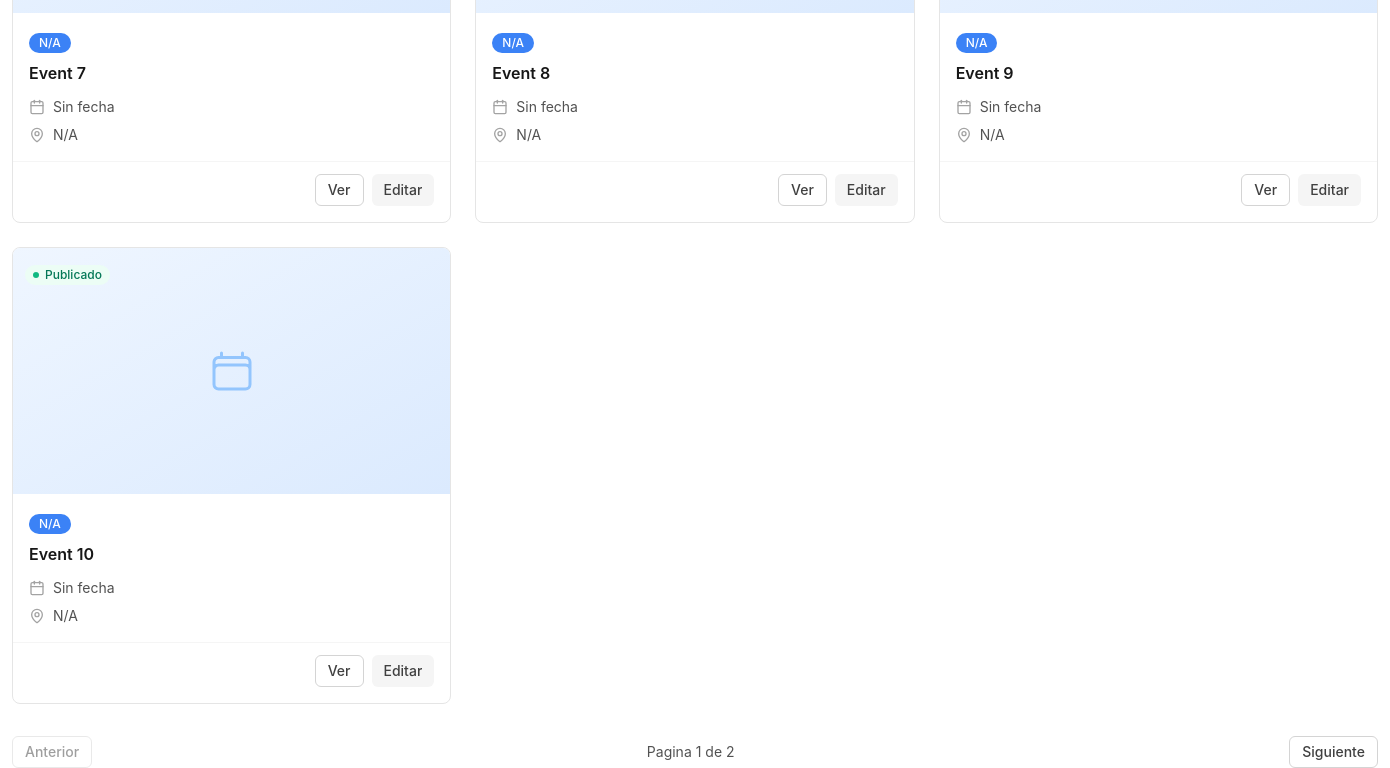
Test: OrganizerEventList › Pagination › should navigate to next page when next button clicked
(page scrolled)
Click the button "Siguiente" at {"x": 1334, "y": 752}, box [1289,736,1378,767]
(page scrolled)
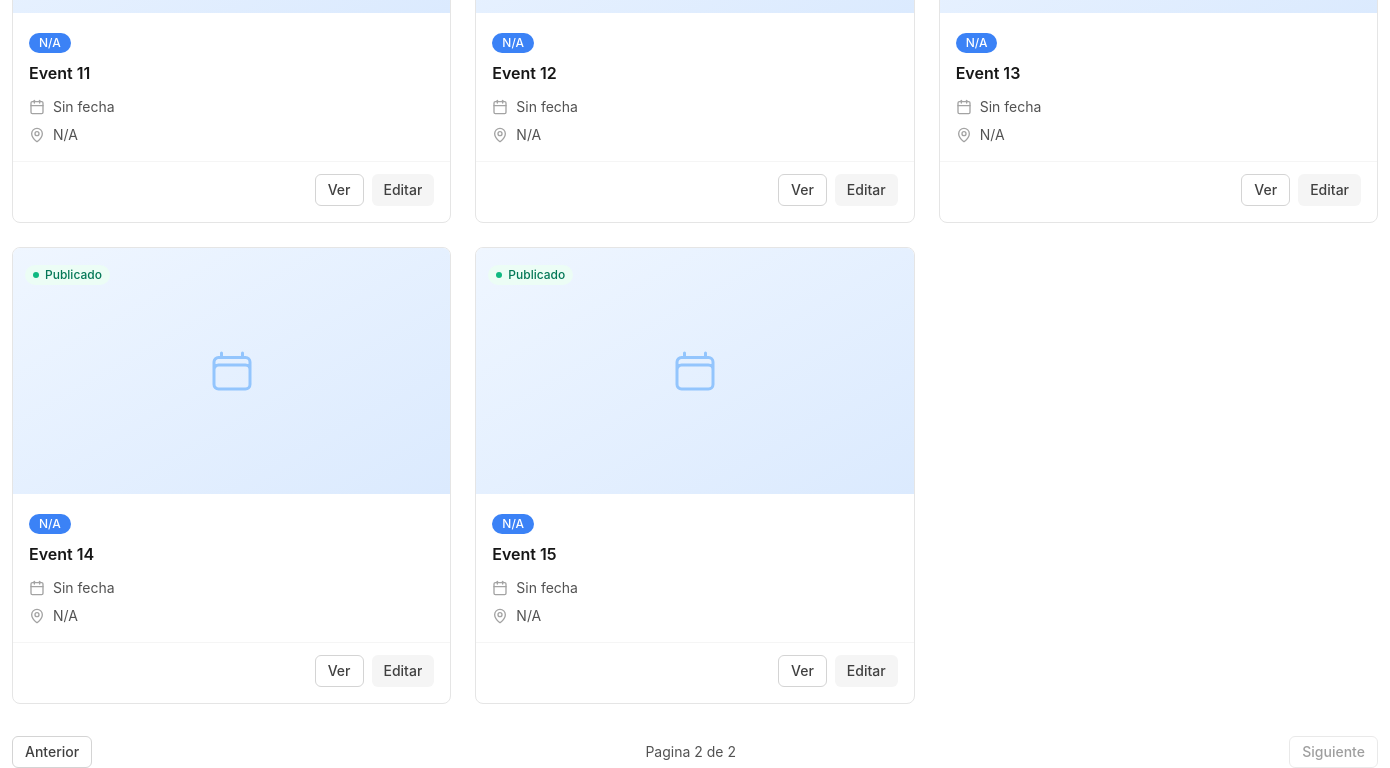
Expected: the heading "Event 11" is shown, [29,63,90,83]
